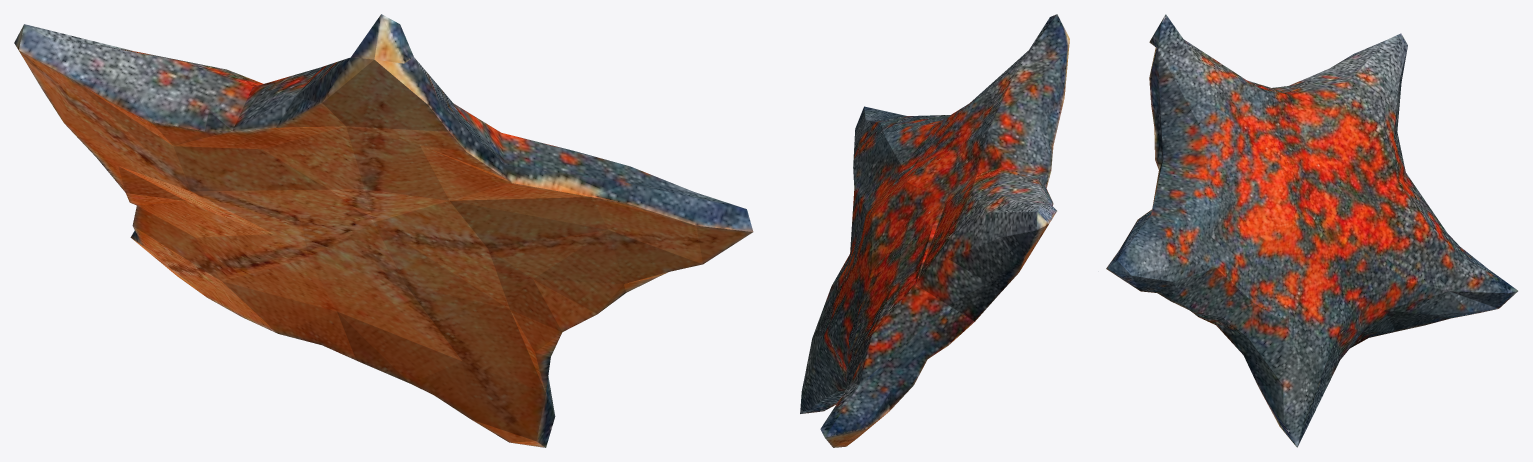
File: starfish_lo.glb
3 views of the same model, side by side, from view 1: azimuth 30°, elevation 25°; view 2: azimuth 150°, elevation 25°; view 3: azimuth 270°, elevation 25° (orthographic). The views are drawn at different scales.
Visible parts, largest first — view 1: starfish_far; view 2: starfish_far; view 3: starfish_far.
Part boxes in pixels (x1,y1,x2,y2): starfish_far: [14, 14, 753, 447]; starfish_far: [800, 14, 1069, 447]; starfish_far: [1106, 14, 1517, 447].
Size of the model in its own units: 0.0785 by 0.0851 by 0.0918.
Materials: 1 (1 with a texture image).
